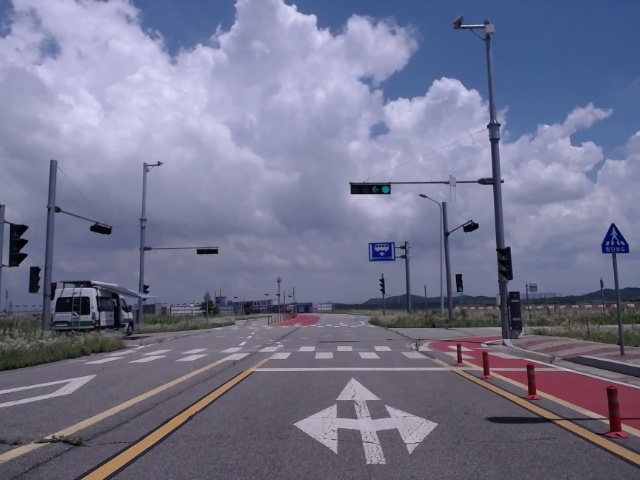all_green_4: (350, 183, 394, 194)
